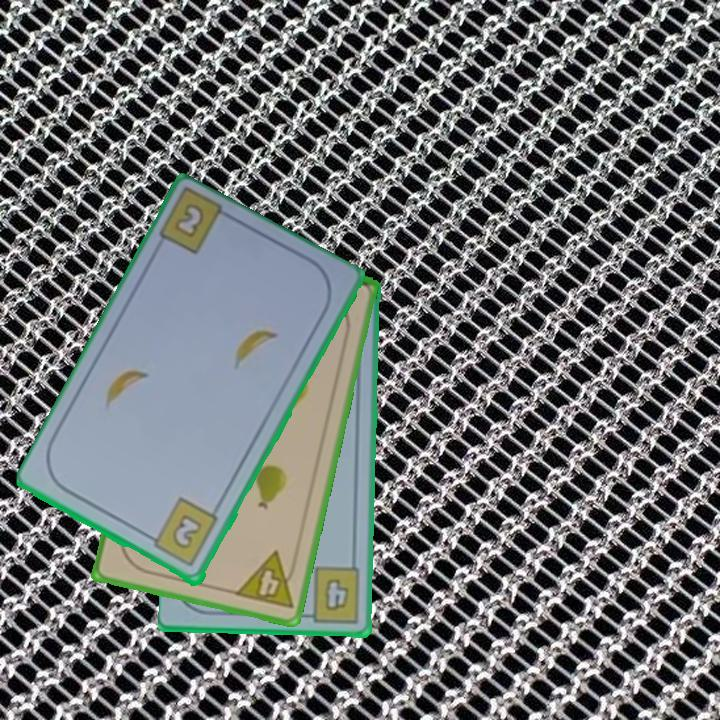2b: (143, 495, 221, 570), (174, 203, 204, 238)
4b: (299, 563, 364, 626)
4p: (231, 548, 301, 612)
